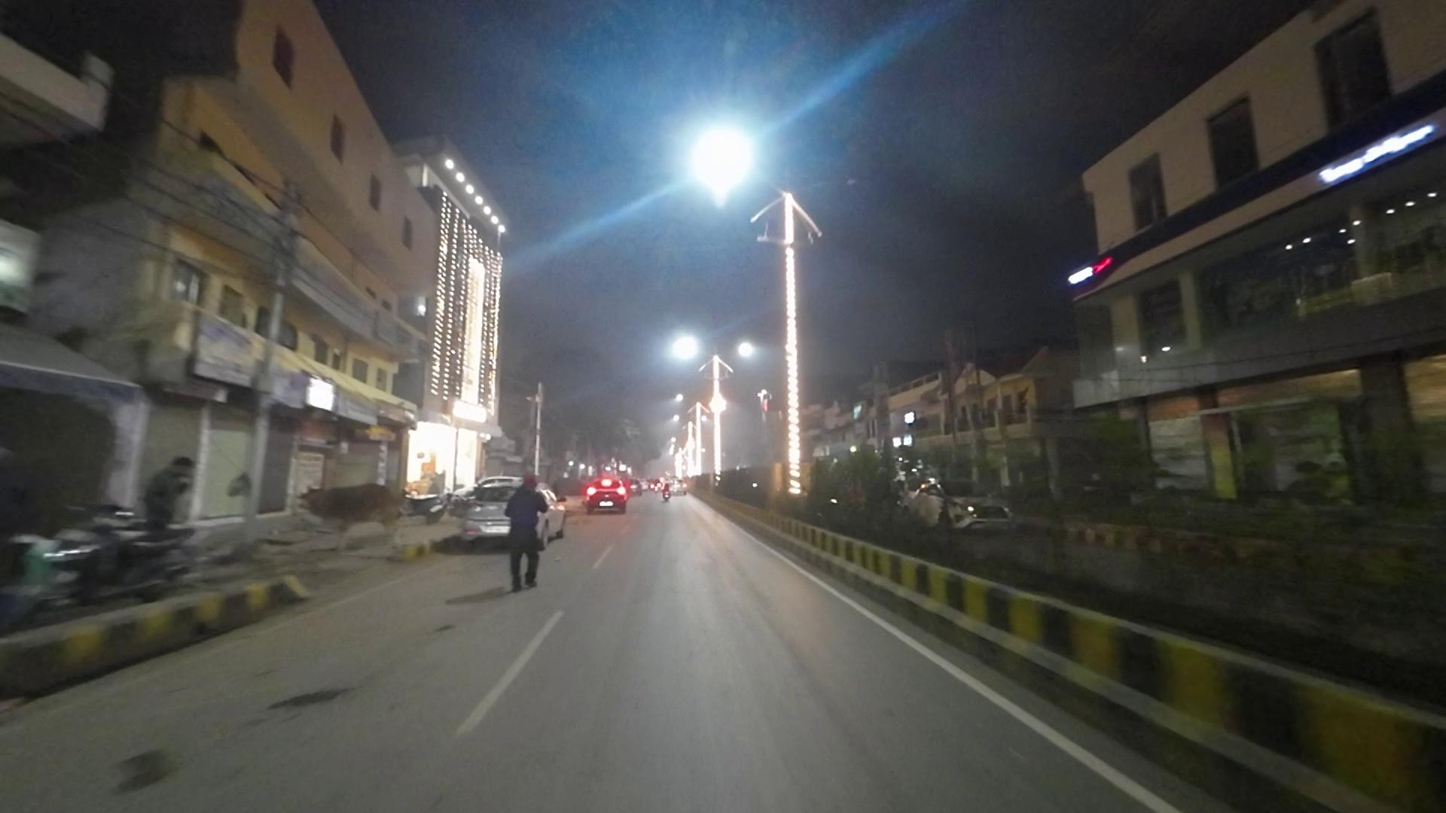streetlight: (802, 176, 855, 191)
